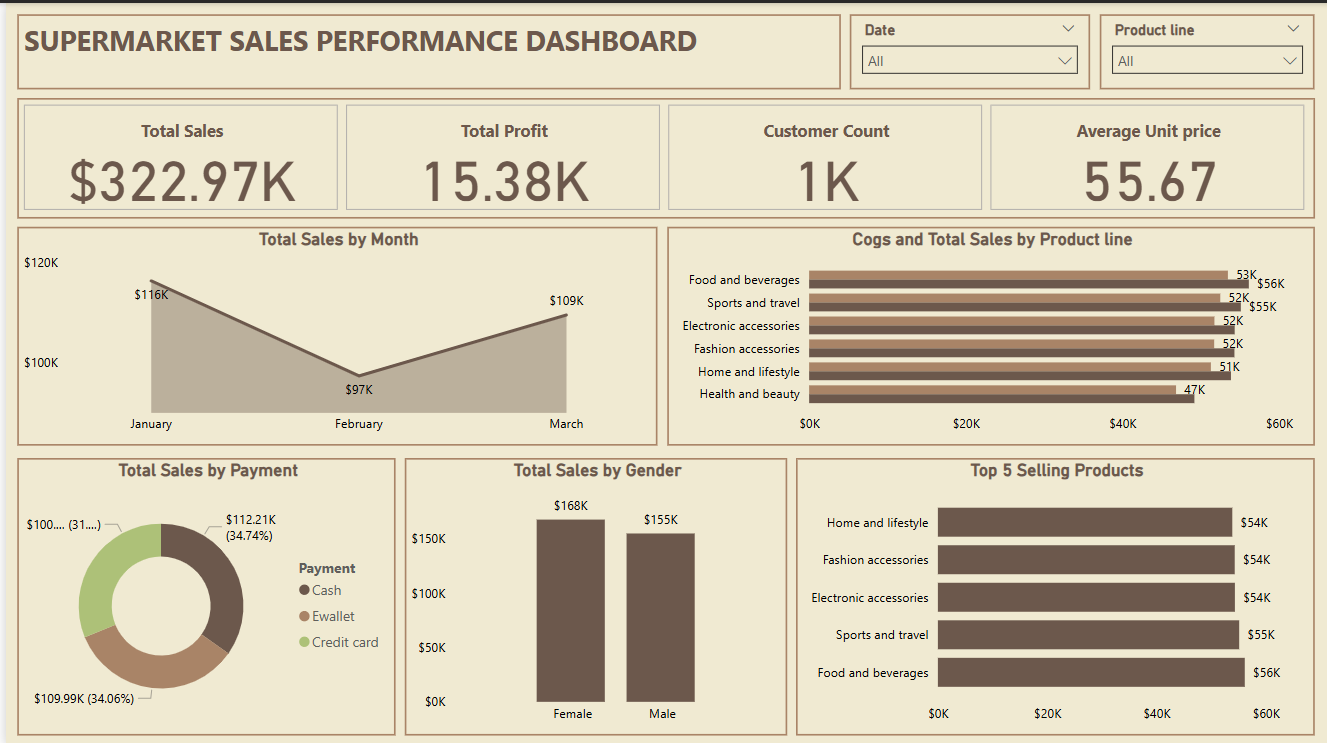

What the dashboard file says about the page in this screenshot:
{"tool":"powerbi","page":{"name":"Page 1","canvas":[1280,720],"ordinal":0},"visuals":[{"type":"cardVisual","fields":{"Data":["supermarket_sales - Sheet1.Total Sales","supermarket_sales - Sheet1.Total Profit","supermarket_sales - Sheet1.Customer Count","Avg(supermarket_sales - Sheet1.Unit price)"]},"box":[11,92,1256.4,116.6],"z":0},{"type":"clusteredBarChart","title":"Top 5 Selling Products","fields":{"Category":["supermarket_sales - Sheet1.Product line"],"Y":["supermarket_sales - Sheet1.Total Sales"]},"box":[765,440.6,502.4,268.7],"z":1},{"type":"clusteredBarChart","title":"Cogs and Total Sales by Product line","fields":{"Y":["Sum(supermarket_sales - Sheet1.cogs)","supermarket_sales - Sheet1.Total Sales"],"Category":["supermarket_sales - Sheet1.Product line"]},"box":[640.4,216.7,627,211.8],"z":2},{"type":"donutChart","fields":{"Y":["supermarket_sales - Sheet1.Total Sales"],"Category":["supermarket_sales - Sheet1.Payment"]},"box":[10.9,440.6,366.8,268.7],"z":3},{"type":"columnChart","fields":{"Y":["supermarket_sales - Sheet1.Total Sales"],"Category":["supermarket_sales - Sheet1.Gender"]},"box":[386.1,440.6,370.4,268.7],"z":4},{"type":"areaChart","fields":{"Category":["supermarket_sales - Sheet1.Date.Variation.Date Hierarchy.Month"],"Y":["supermarket_sales - Sheet1.Total Sales"]},"box":[10.9,216.7,619.8,211.8],"z":5},{"type":"textbox","box":[10.9,10.9,797.7,72.6],"z":6},{"type":"slicer","fields":{"Values":["supermarket_sales - Sheet1.Date"]},"box":[817.1,10.9,232.4,72.6],"z":7},{"type":"slicer","fields":{"Values":["supermarket_sales - Sheet1.Product line"]},"box":[1059.2,10.9,208.2,72.6],"z":8}]}

Visuals, with their boxes in screenshot pixels (x1, y1, x2, y2), scaled from the page's 1280x720 canvas onto the 1327x743 screenshot:
cardVisual - supermarket_sales - Sheet1.Total Sales x supermarket_sales - Sheet1.Total Profit: <box>11,95,1314,215</box>
"Top 5 Selling Products" clusteredBarChart: <box>793,455,1314,732</box>
"Cogs and Total Sales by Product line" clusteredBarChart: <box>664,224,1314,442</box>
donutChart - supermarket_sales - Sheet1.Total Sales x supermarket_sales - Sheet1.Payment: <box>11,455,392,732</box>
columnChart - supermarket_sales - Sheet1.Total Sales x supermarket_sales - Sheet1.Gender: <box>400,455,784,732</box>
areaChart - supermarket_sales - Sheet1.Date.Variation.Date Hierarchy.Month x supermarket_sales - Sheet1.Total Sales: <box>11,224,654,442</box>
textbox: <box>11,11,838,86</box>
slicer - supermarket_sales - Sheet1.Date: <box>847,11,1088,86</box>
slicer - supermarket_sales - Sheet1.Product line: <box>1098,11,1314,86</box>
